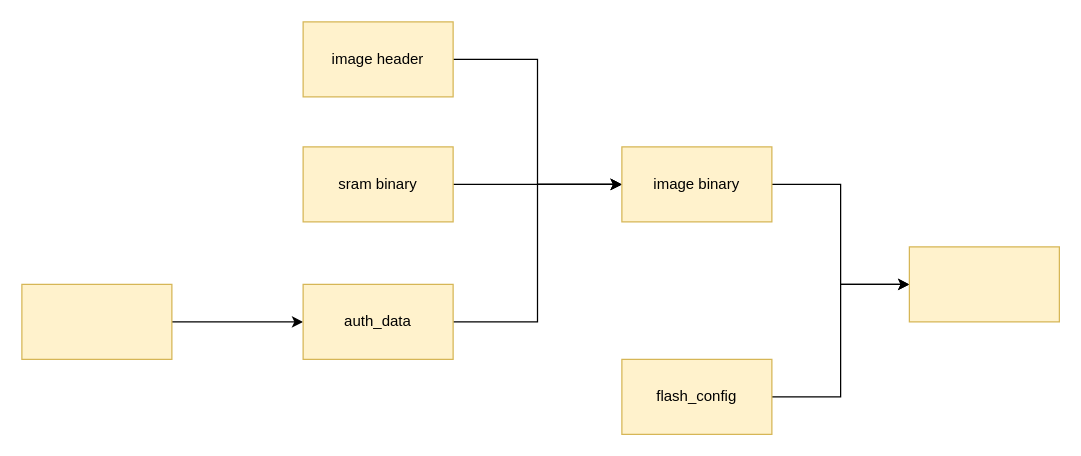
The diagram is 1081 pixels wide and 456 high, and some of its shapes have lost their labels. The centre of each missing label's shape, as x and y in pixels:
"flash binary" belongs at point (983, 284).
"signature" belongs at point (96, 321).
